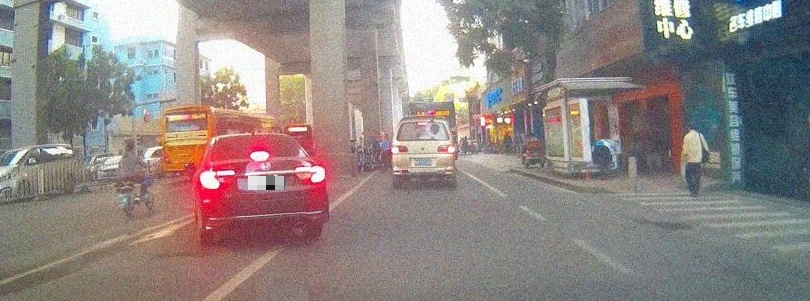L_light: (199, 169, 235, 190)
R_light: (295, 166, 326, 183), (437, 145, 455, 153)
T_light: (250, 151, 269, 160), (417, 122, 427, 125)
day-brake: (391, 116, 456, 188)
day-left: (197, 133, 329, 246)
day-no: (391, 146, 409, 153)
plate_1: (248, 176, 285, 190)
